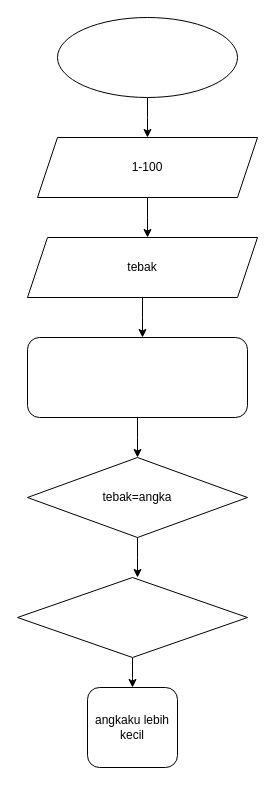
Some shapes in this 275 by 785 pixel diagram are drawn without their labels. Each missing label, with the box of its shape:
menebak: (26, 336, 248, 418)
START: (56, 16, 238, 98)
